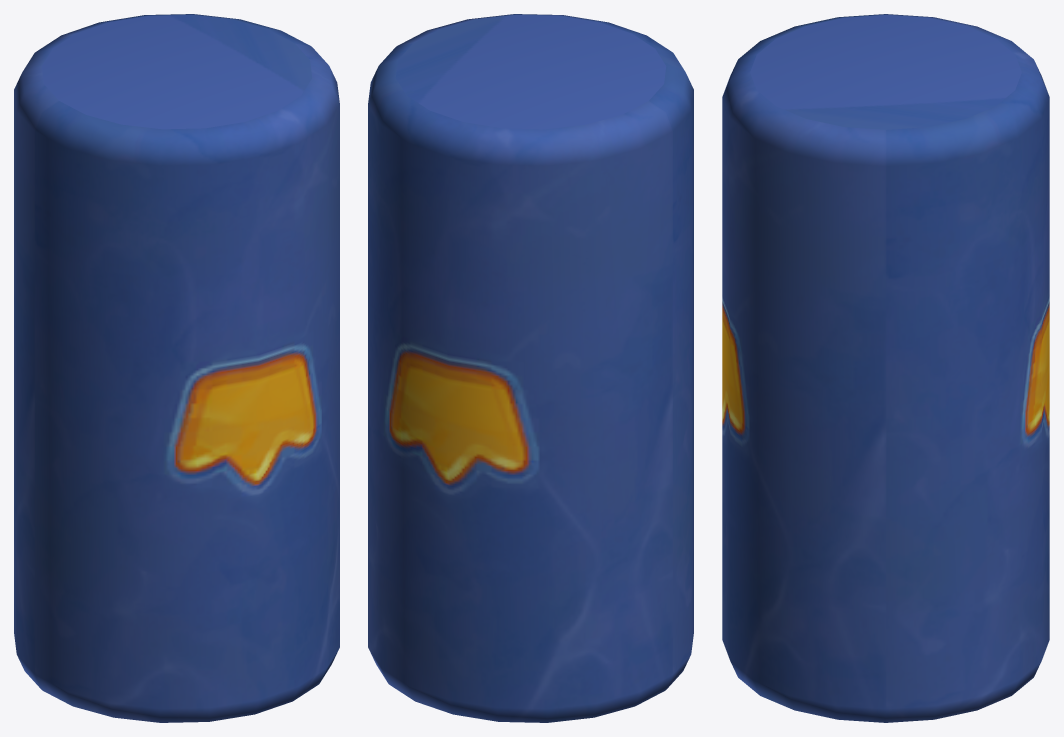
The picture shows the model from 3 angles, left to right: view 1: azimuth 30°, elevation 25°; view 2: azimuth 150°, elevation 25°; view 3: azimuth 270°, elevation 25°; orthographic projection.
Visible parts, largest first — view 1: 4036; view 2: 4036; view 3: 4036.
Boxes of the visible parts, x1=… form: 4036: x1=14, y1=14, x2=339, y2=722; 4036: x1=368, y1=14, x2=693, y2=722; 4036: x1=722, y1=14, x2=1049, y2=722.
Size of the model in its own units: 1 by 2 by 1.
Materials: 1 (1 with a texture image).
